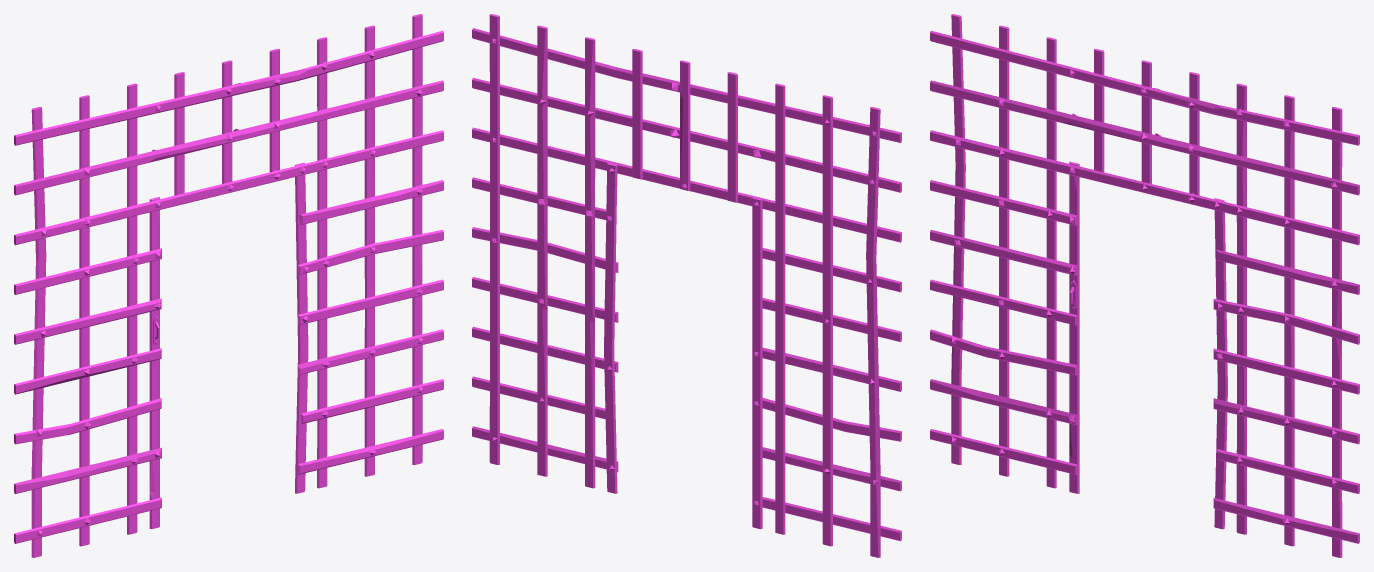
The model's file is SM_Wall_Door_Bars_3x3m_Fantasy.fbx.
The picture shows the model from 3 angles, left to right: view 1: azimuth 30°, elevation 25°; view 2: azimuth 150°, elevation 25°; view 3: azimuth 330°, elevation 25°; orthographic projection.
Parts seen in each view (by area): view 1: SM_Wall_Door_Bars_3x3m_Fantasy; view 2: SM_Wall_Door_Bars_3x3m_Fantasy; view 3: SM_Wall_Door_Bars_3x3m_Fantasy.
Part boxes in pixels (<box>): SM_Wall_Door_Bars_3x3m_Fantasy: <box>14,14,443,557</box>; SM_Wall_Door_Bars_3x3m_Fantasy: <box>472,14,901,557</box>; SM_Wall_Door_Bars_3x3m_Fantasy: <box>930,14,1359,557</box>.
Bounding box in the file's own units: 3 × 3 × 0.1052.
